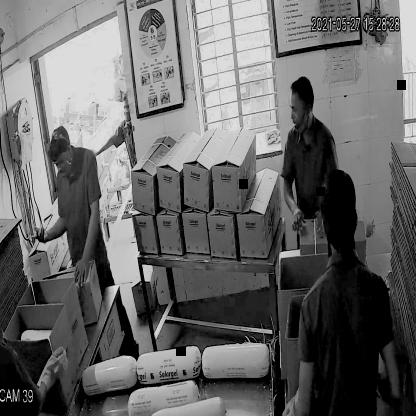no_goggles: (289, 99, 313, 120), (51, 151, 70, 171)
